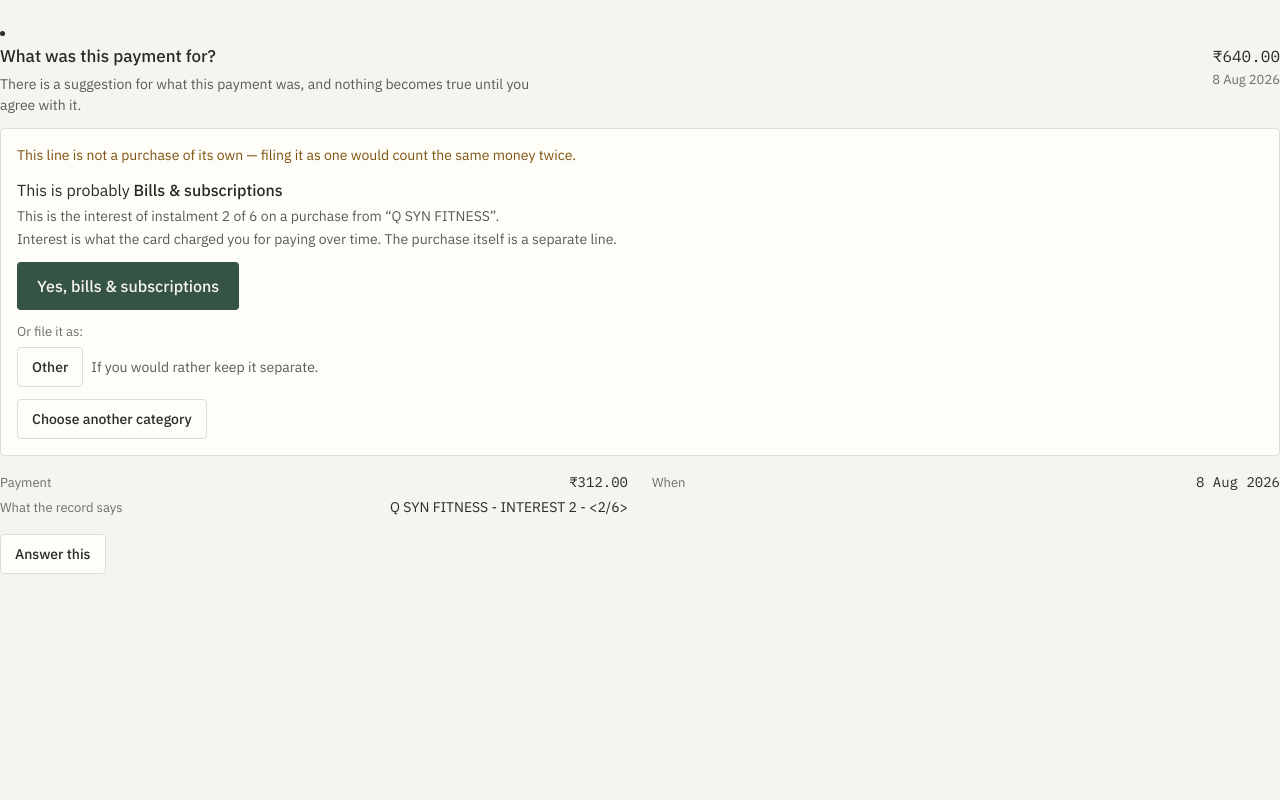
Test case: a line that is not a purchase › says so again in the dialog, rather than only on the card
Click the button "Yes, bills & subscriptions": [128, 286] box [17,262,239,310]
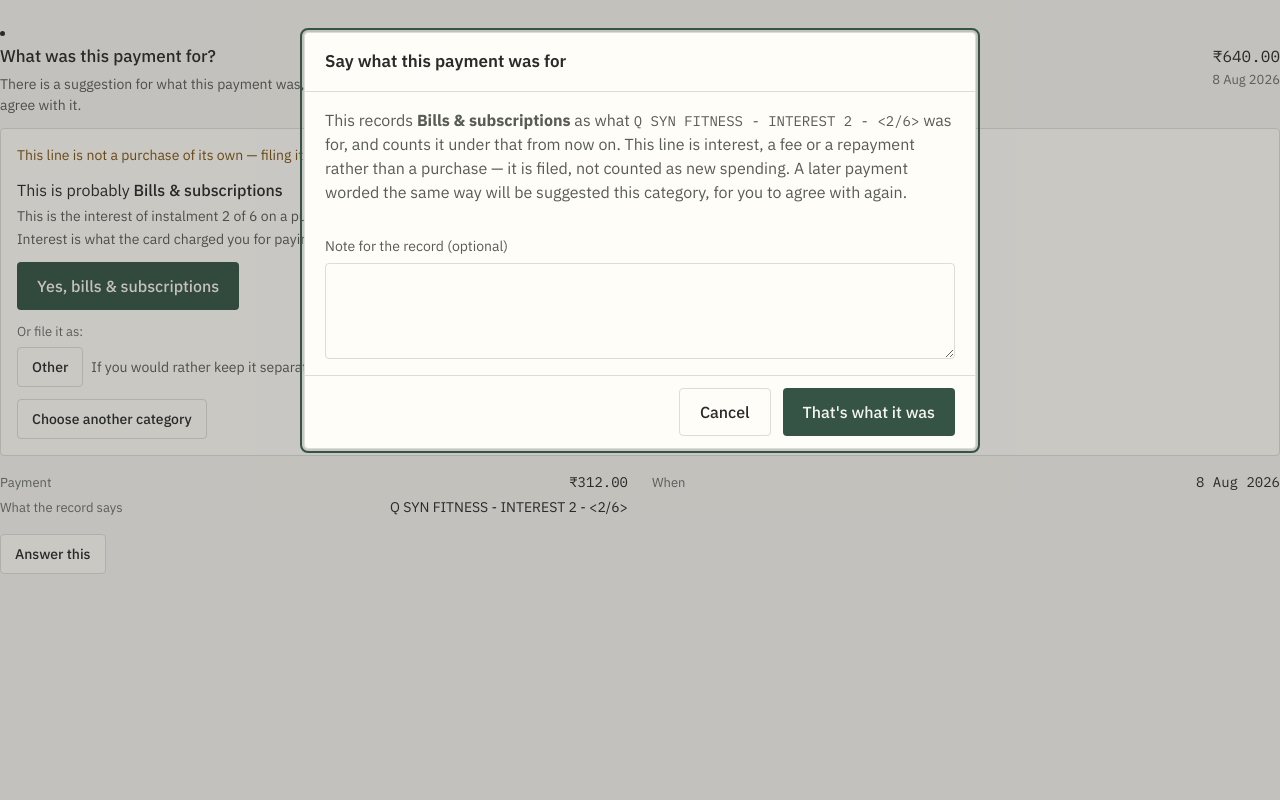
Check: the text "interest, a fee or a repayment rather than a purchase" is shown, box [325,134,915,178]
